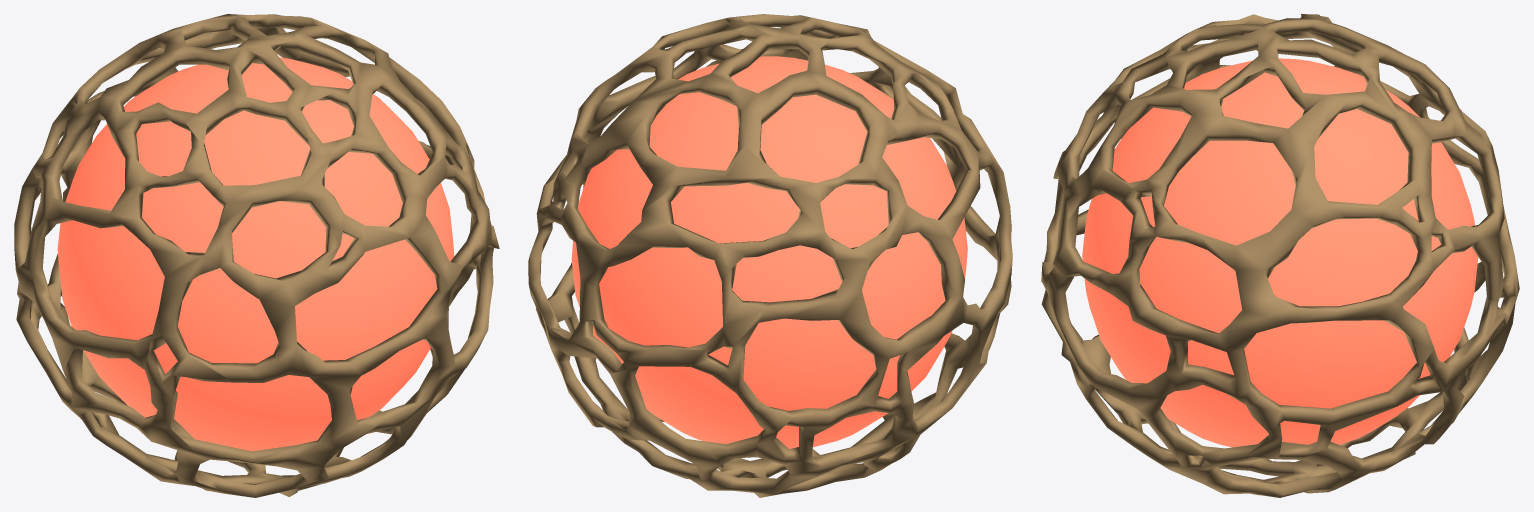
The model's file is esfera.glb.
3 renders of one model, left to right at view 1: azimuth 30°, elevation 25°; view 2: azimuth 150°, elevation 25°; view 3: azimuth 270°, elevation 25°, orthographic.
Parts seen in each view (by area): view 1: Cage, Core; view 2: Cage, Core; view 3: Cage, Core.
Part boxes in pixels (bbox=[...]): Cage: bbox=[14, 14, 499, 497]; Core: bbox=[57, 57, 454, 451]; Cage: bbox=[528, 14, 1012, 497]; Core: bbox=[571, 56, 967, 448]; Cage: bbox=[1041, 14, 1519, 497]; Core: bbox=[1082, 58, 1478, 447].
Bounding box in the file's own units: 0.4 × 0.3965 × 0.395.
